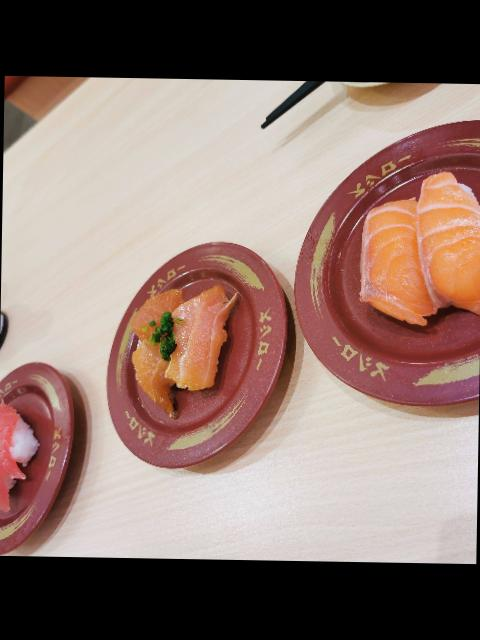janred: (281, 151, 480, 402), (124, 212, 282, 496), (0, 346, 85, 557)
